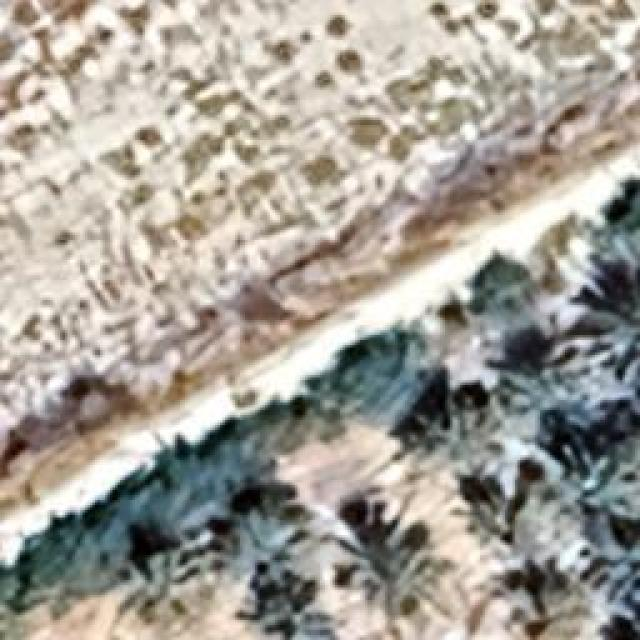PalmTree: (114, 85, 538, 531), (22, 67, 114, 606), (404, 391, 518, 474), (361, 541, 449, 631), (130, 545, 212, 630), (234, 577, 337, 640), (502, 338, 580, 418), (509, 567, 592, 640), (228, 500, 304, 575), (558, 422, 624, 492), (590, 175, 638, 263), (600, 558, 640, 626), (605, 314, 640, 388)
